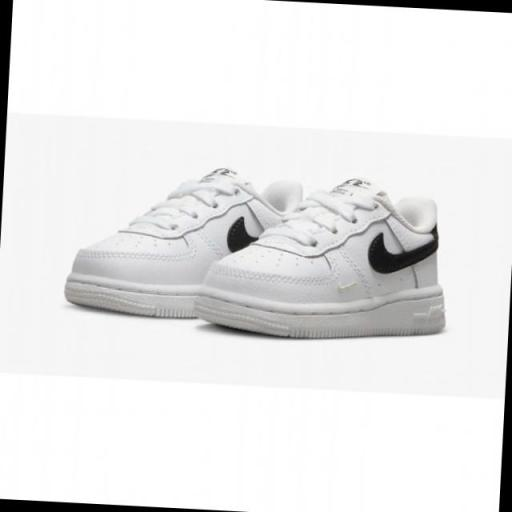Nike: (361, 233, 440, 284)
